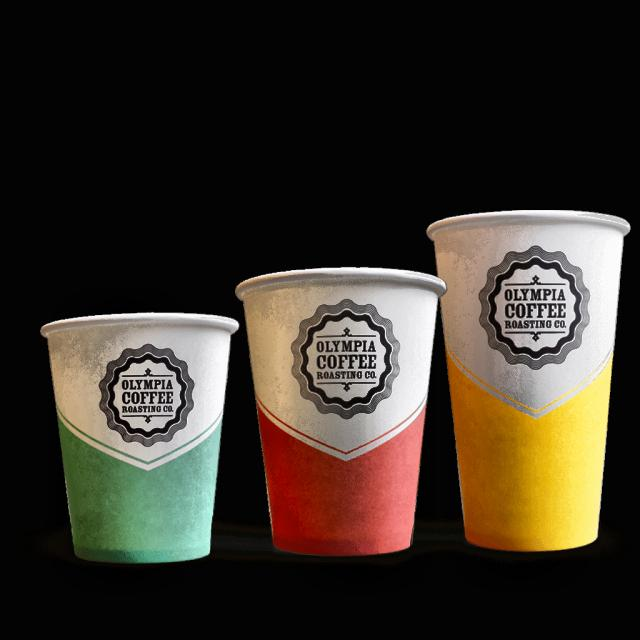Cup: (417, 209, 638, 558), (224, 269, 453, 562), (34, 305, 242, 568)
